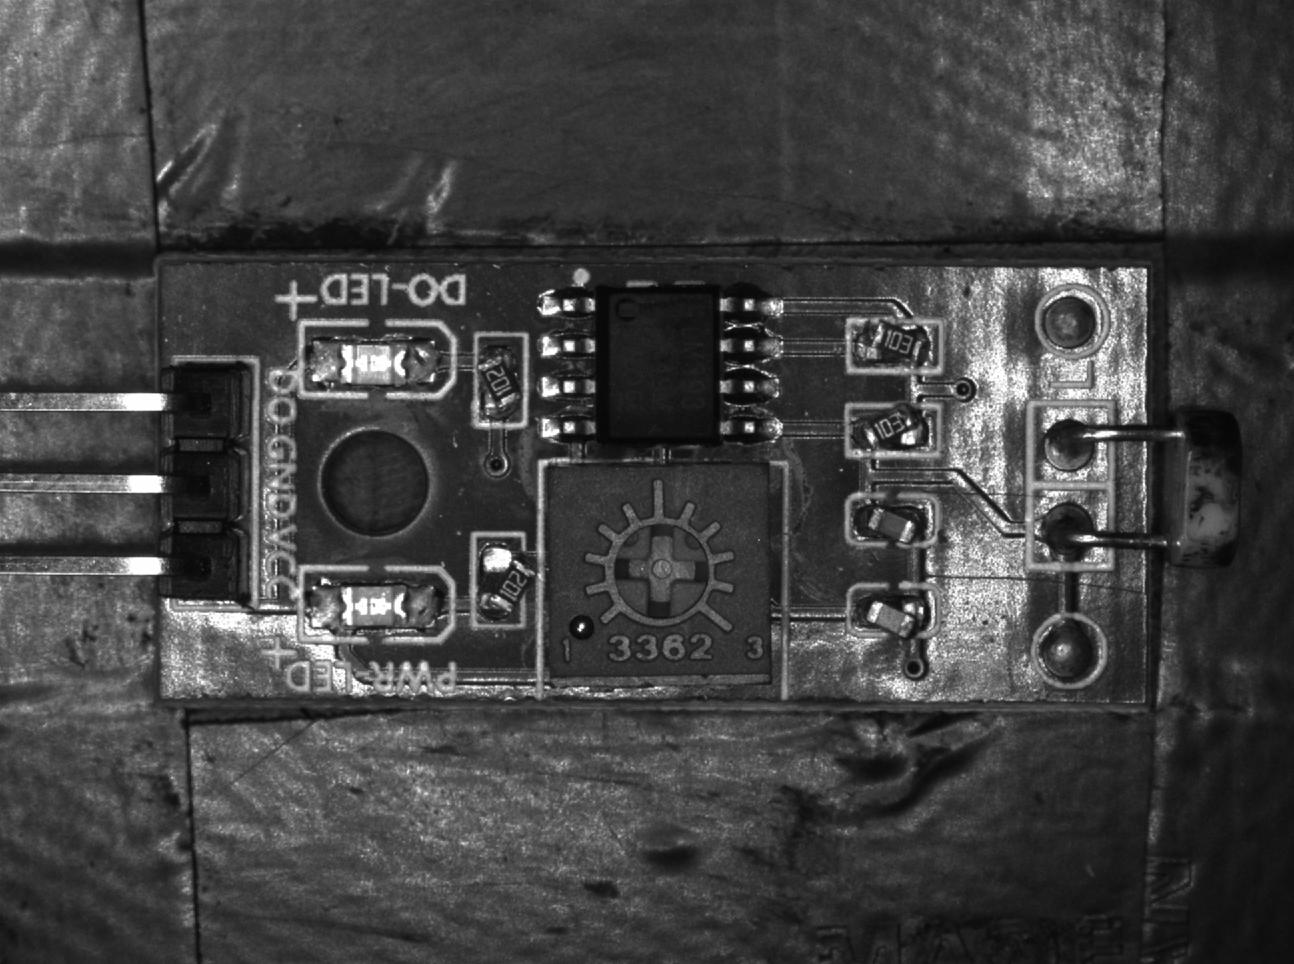lifted: (471, 528, 533, 632), (843, 318, 947, 374), (846, 401, 943, 460), (473, 332, 527, 428), (850, 492, 936, 551), (845, 584, 936, 637)
